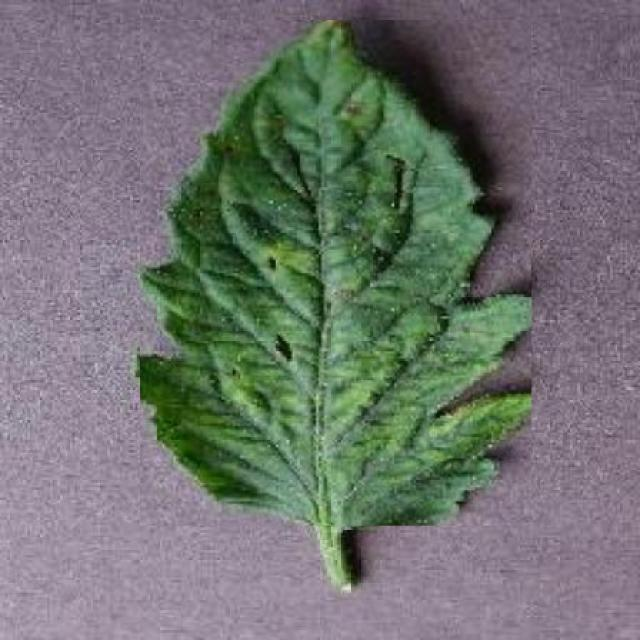Mosaic Virus: (139, 21, 532, 526)
